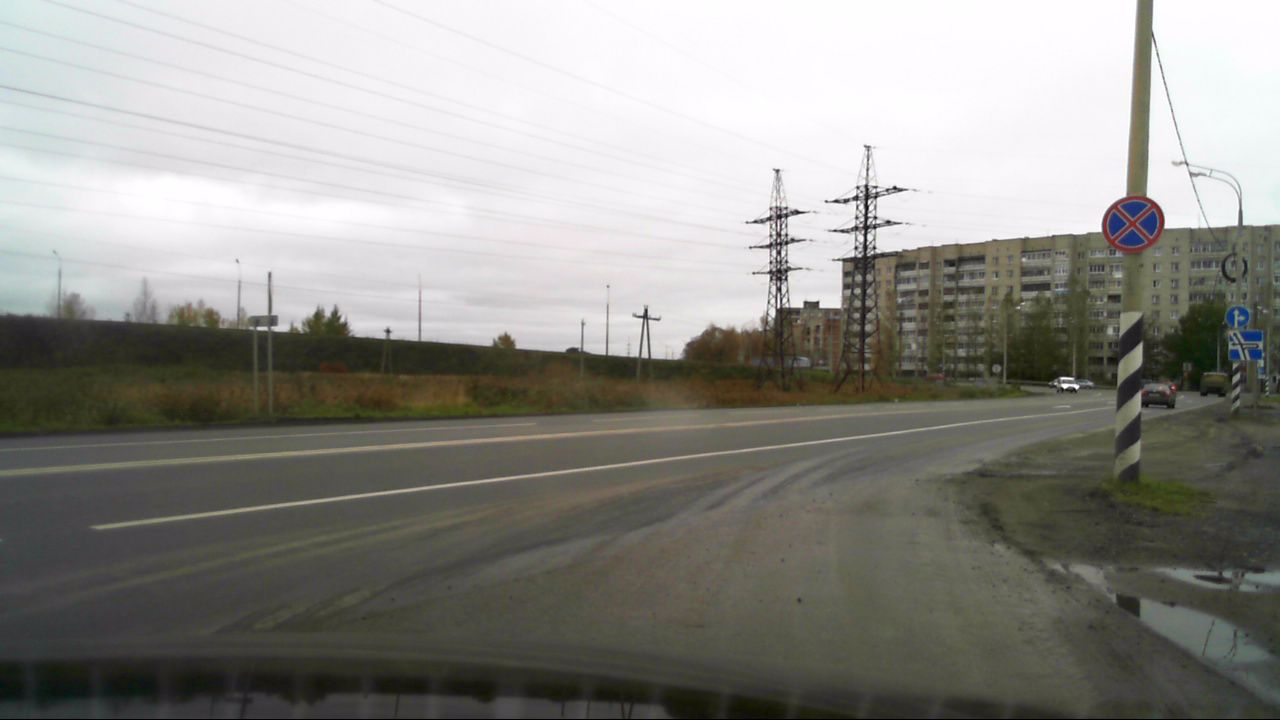No Parking: (1099, 196, 1163, 254)
